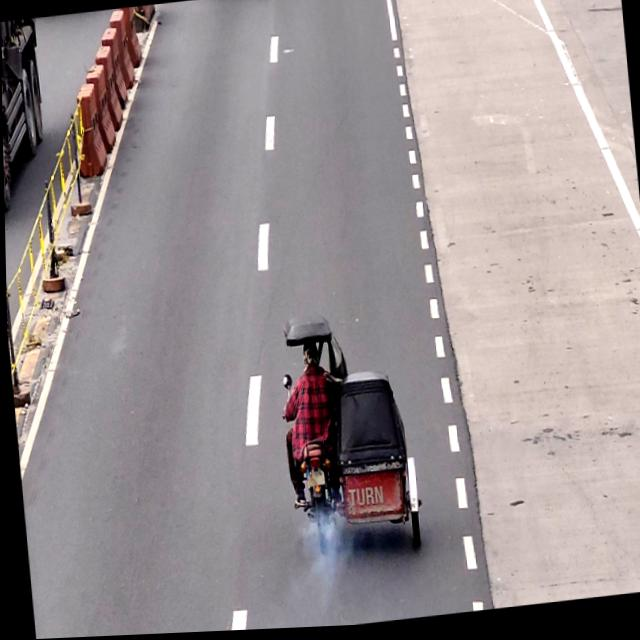Tricycle: (275, 311, 420, 566)
